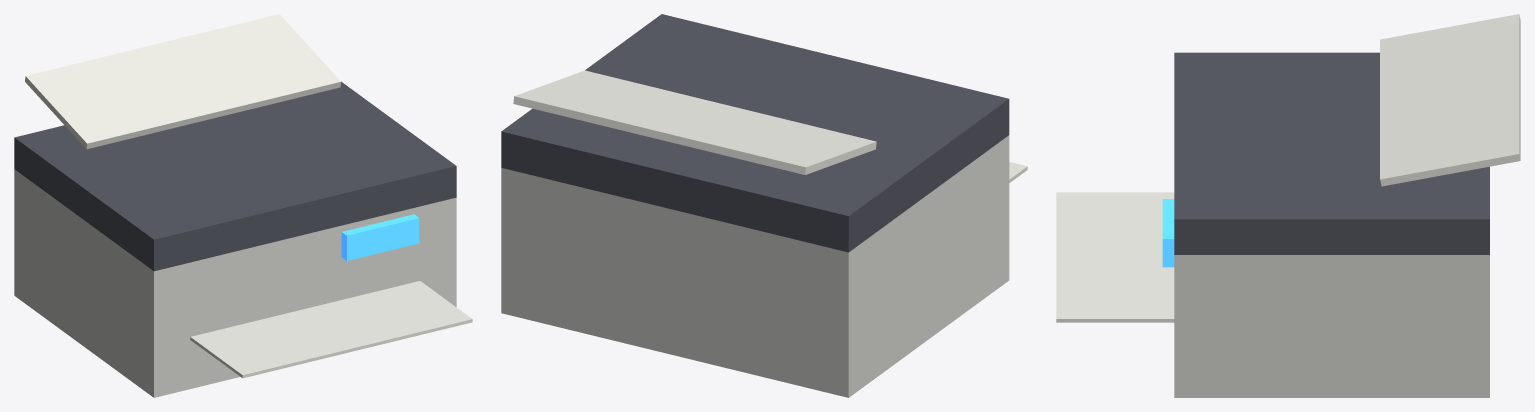
The model's file is printer.glb.
3 views of the same model, side by side, from view 1: azimuth 30°, elevation 25°; view 2: azimuth 150°, elevation 25°; view 3: azimuth 270°, elevation 25° (orthographic). The views are drawn at different scales.
Visible parts, largest first — view 1: printer; view 2: printer; view 3: printer.
Boxes of the visible parts, x1,y1,x2,y2 form: printer: (14, 14, 472, 397); printer: (501, 14, 1027, 397); printer: (1056, 14, 1520, 397).
Size of the model in its own units: 0.5 by 0.3228 by 0.5892.
